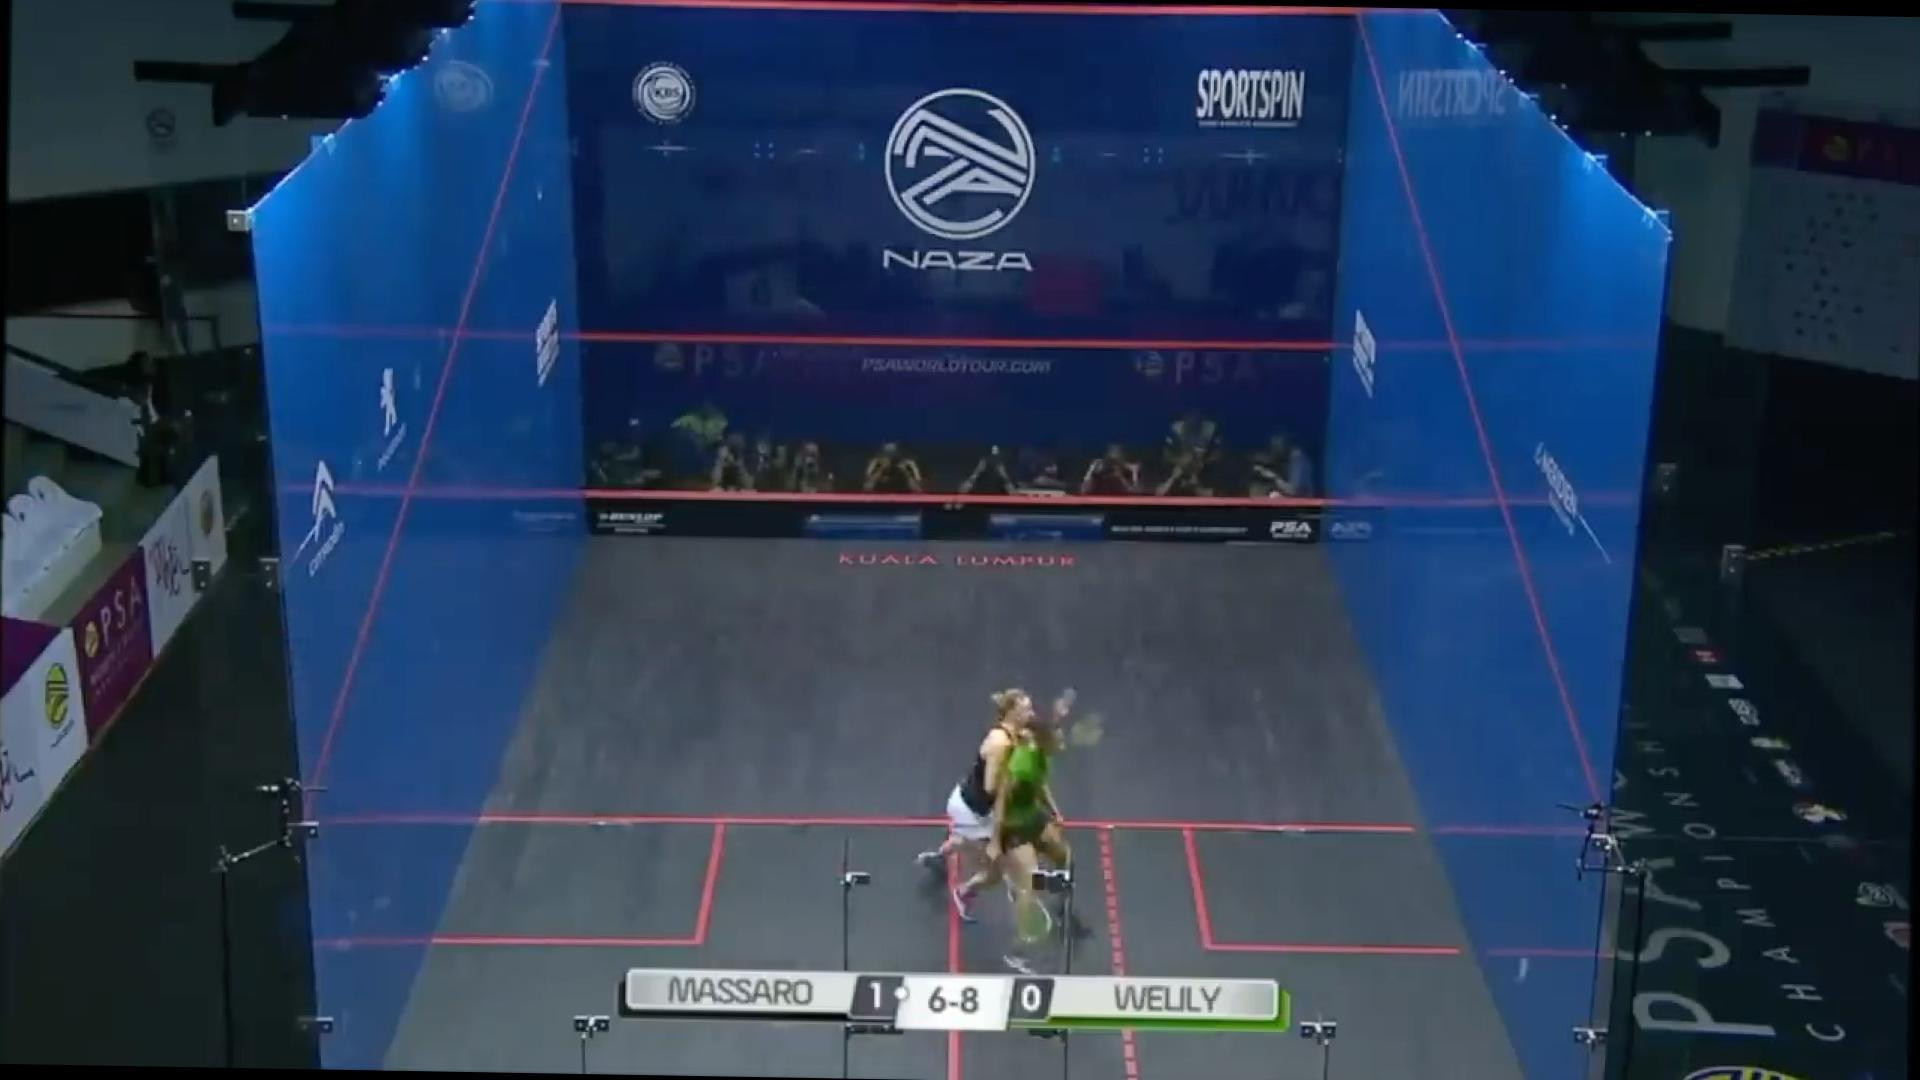Squash-Ball: (1497, 939, 1548, 1006)
